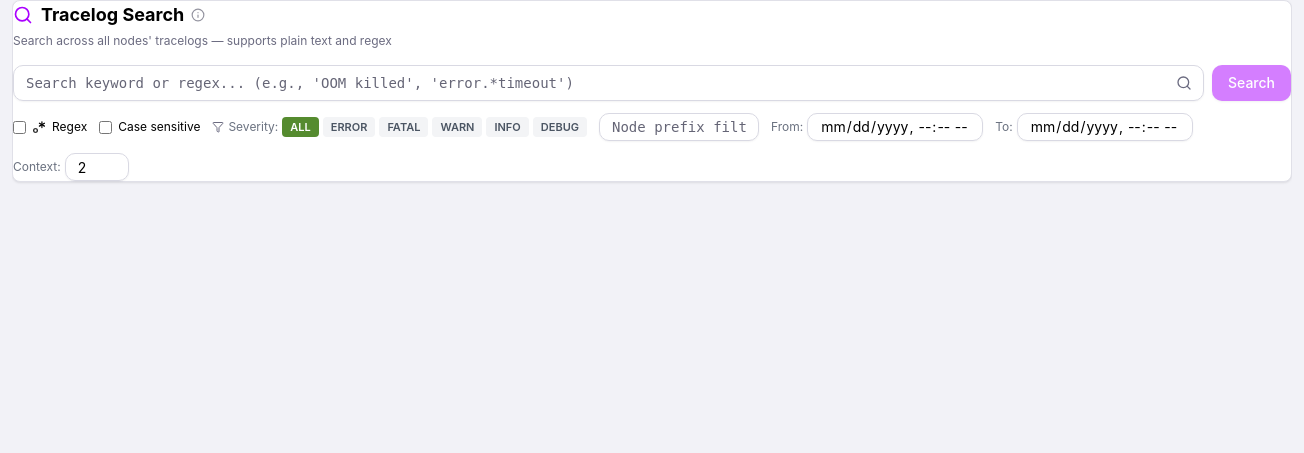
LogSearch result panel › shows full wrapped log block when expanded
Type "BottleGrpc" into the field with test id "log-search-input".
click(608, 83); type("BottleGrpc")  # box x1=13 y1=65 x2=1204 y2=101
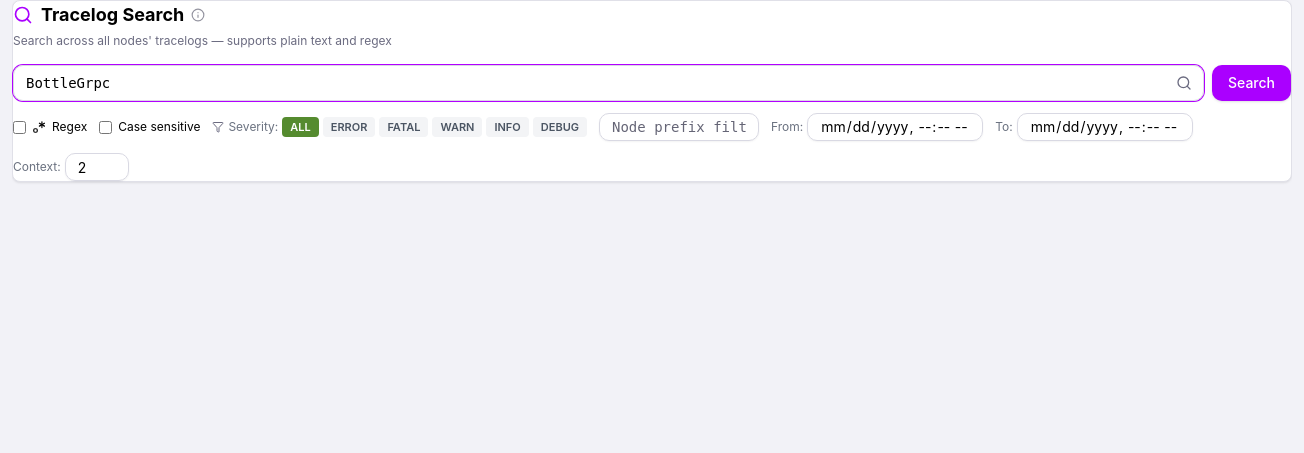
Click the button "Search".
click(1252, 83)  # box x1=1212 y1=65 x2=1291 y2=101
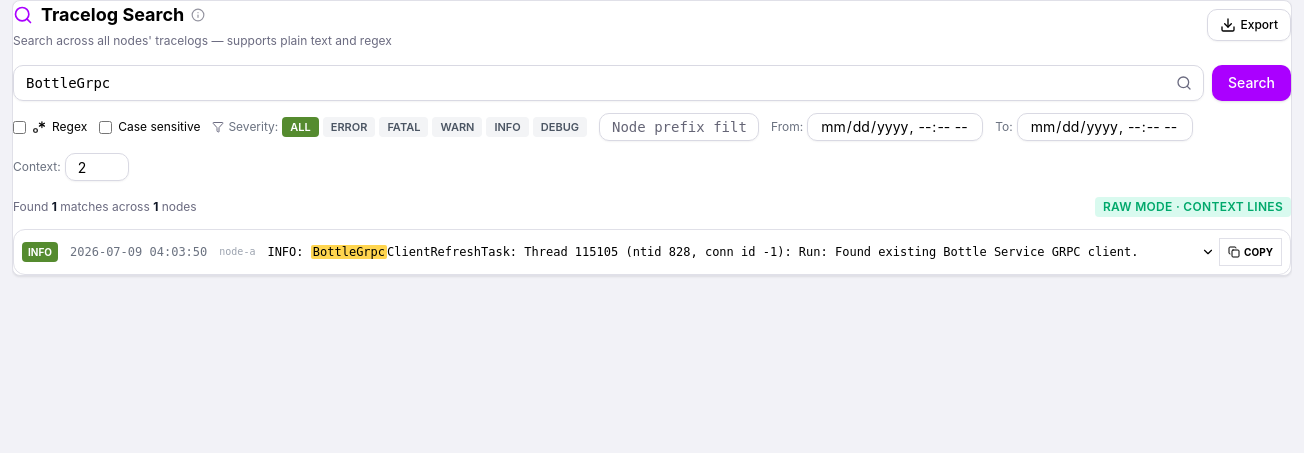
Expected: the element with test id "log-search-result-0" is shown, x1=13 y1=229 x2=1291 y2=275
Click the button with test id "log-search-toggle-0".
click(619, 252)  # box x1=22 y1=242 x2=1215 y2=262
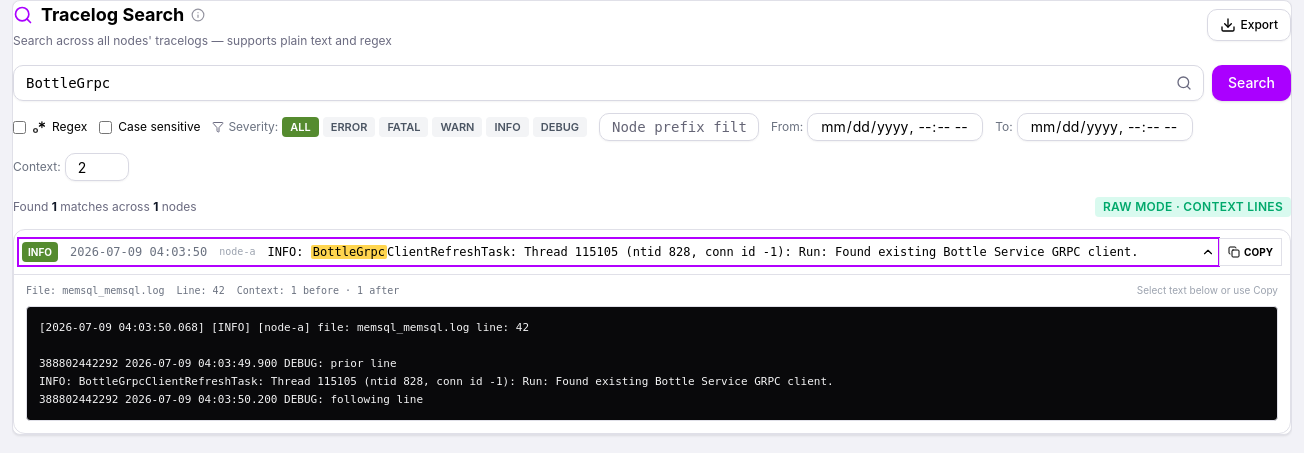
Expected: the text with test id "log-search-block-0" shows "prior line", x1=39 y1=321 x2=834 y2=406
Expected: the text with test id "log-search-block-0" shows "following line", x1=39 y1=321 x2=834 y2=406
Expected: the text with test id "log-search-block-0" shows "BottleGrpcClientRefreshTask", x1=39 y1=321 x2=834 y2=406
